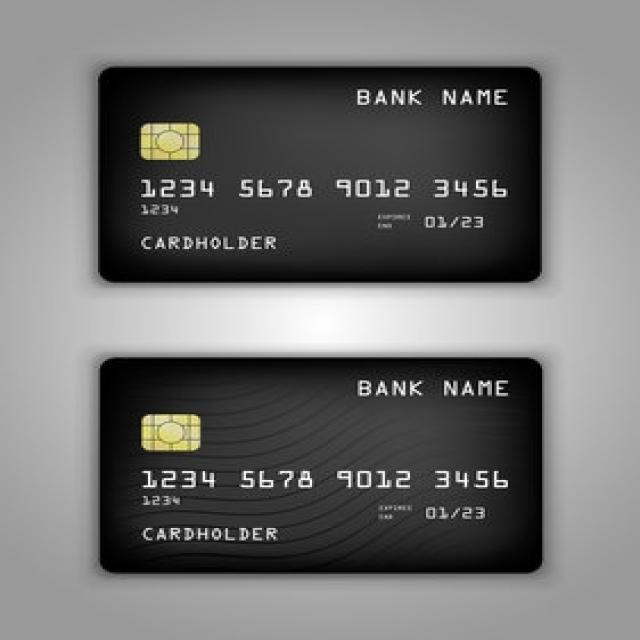payment_card: (96, 63, 543, 283), (98, 355, 543, 574)
